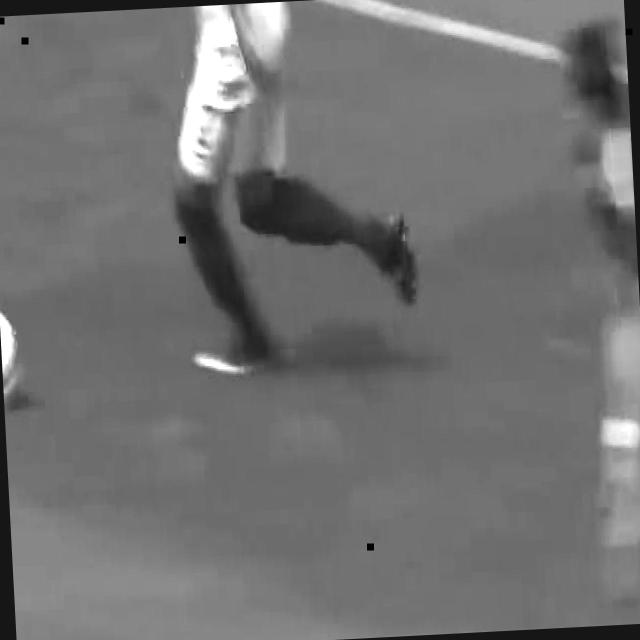ball: (0, 304, 20, 407)
player-white: (120, 0, 418, 384)
